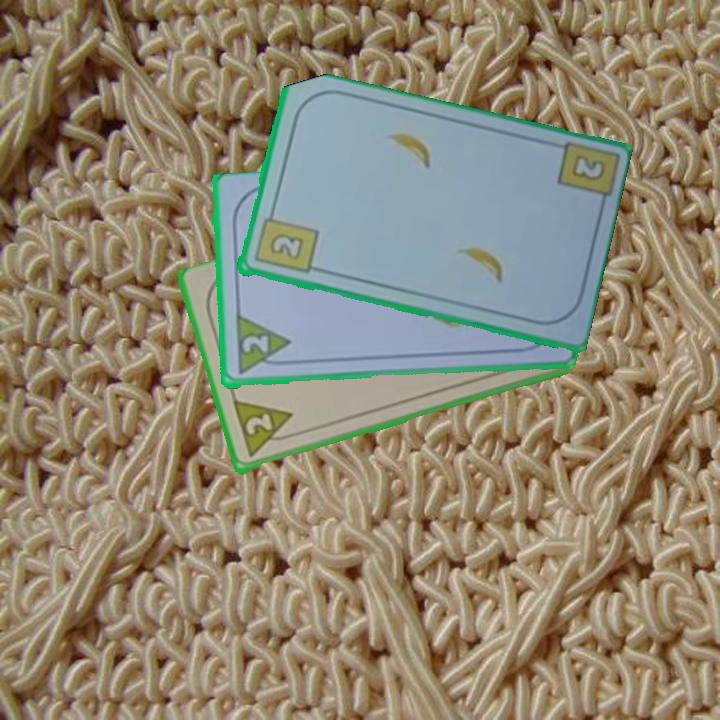2b: (250, 206, 320, 277), (567, 151, 608, 185)
2p: (231, 314, 293, 378), (241, 410, 275, 439)
